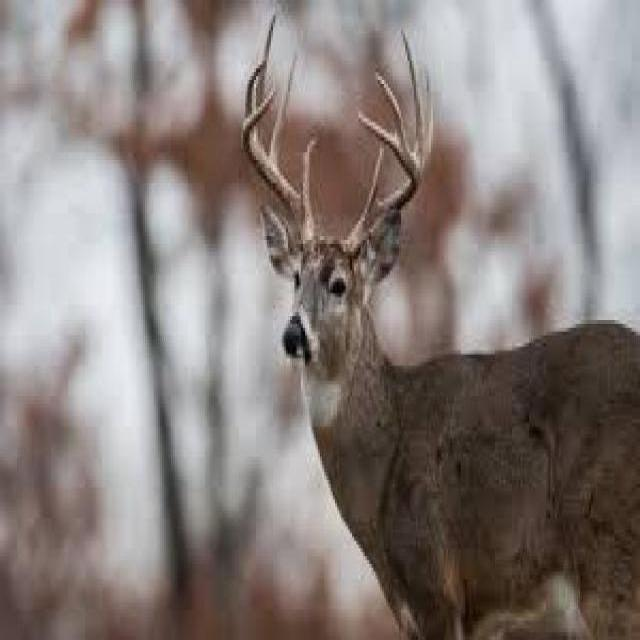deer: (247, 14, 640, 640)
